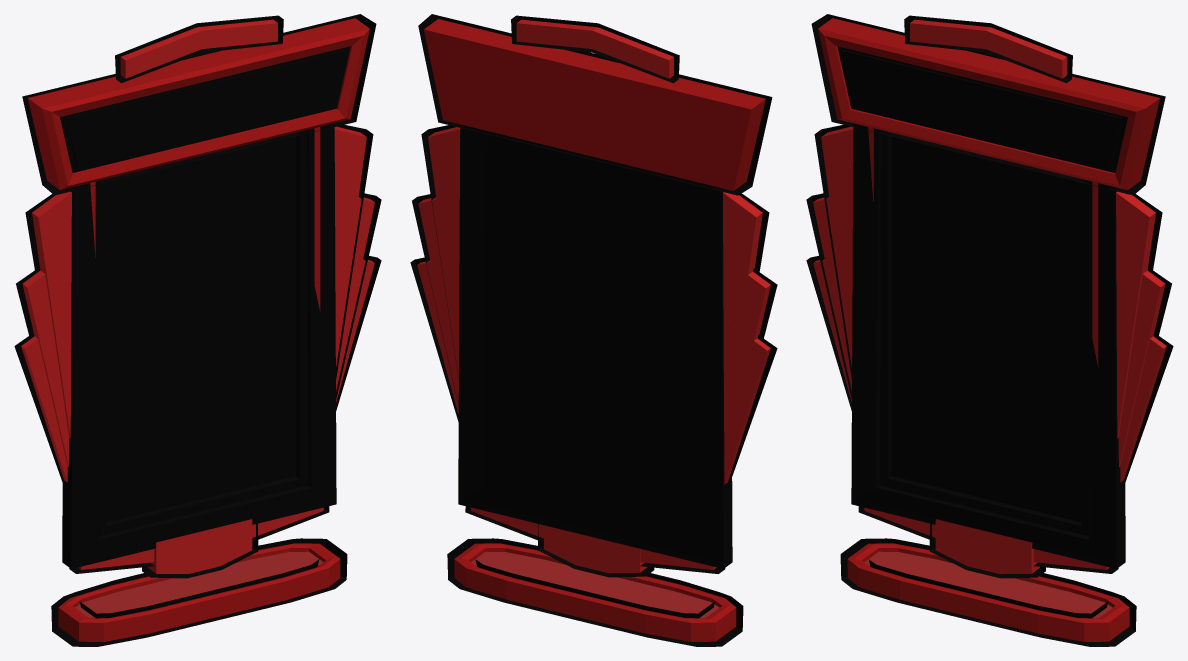
Rendered from game_leaderboard.fbx.
3 renders of one model, left to right at view 1: azimuth 30°, elevation 25°; view 2: azimuth 150°, elevation 25°; view 3: azimuth 330°, elevation 25°, orthographic.
Visible parts, largest first — view 1: Cube040_0, Cube003_7, Plane020_5, Cube046_4, Cube042_1, Plane021_6, Cube044_3, Cube043_2; view 2: Cube003_7, Plane020_5, Cube046_4, Plane021_6, Cube044_3, Cube043_2; view 3: Cube040_0, Cube003_7, Plane020_5, Cube046_4, Cube042_1, Plane021_6, Cube044_3, Cube043_2.
Part boxes in pixels (bbox=[...]): Cube040_0: bbox=[106, 136, 296, 521]; Cube003_7: bbox=[14, 14, 381, 646]; Plane020_5: bbox=[28, 18, 369, 641]; Cube046_4: bbox=[21, 126, 374, 569]; Cube042_1: bbox=[60, 46, 350, 172]; Plane021_6: bbox=[75, 551, 323, 618]; Cube044_3: bbox=[120, 19, 277, 78]; Cube043_2: bbox=[148, 519, 252, 573]; Cube003_7: bbox=[410, 14, 777, 646]; Plane020_5: bbox=[424, 19, 765, 641]; Cube046_4: bbox=[417, 127, 770, 569]; Plane021_6: bbox=[471, 551, 719, 618]; Cube044_3: bbox=[516, 19, 673, 78]; Cube043_2: bbox=[544, 525, 647, 572]; Cube040_0: bbox=[891, 136, 1081, 521]; Cube003_7: bbox=[806, 14, 1173, 646]; Plane020_5: bbox=[818, 18, 1159, 641]; Cube046_4: bbox=[813, 126, 1166, 569]; Cube042_1: bbox=[837, 46, 1127, 172]; Plane021_6: bbox=[864, 551, 1112, 618]; Cube044_3: bbox=[910, 19, 1067, 78]; Cube043_2: bbox=[935, 519, 1039, 573].
Size of the model in its own units: 0.2841 by 0.4338 by 0.0541.
